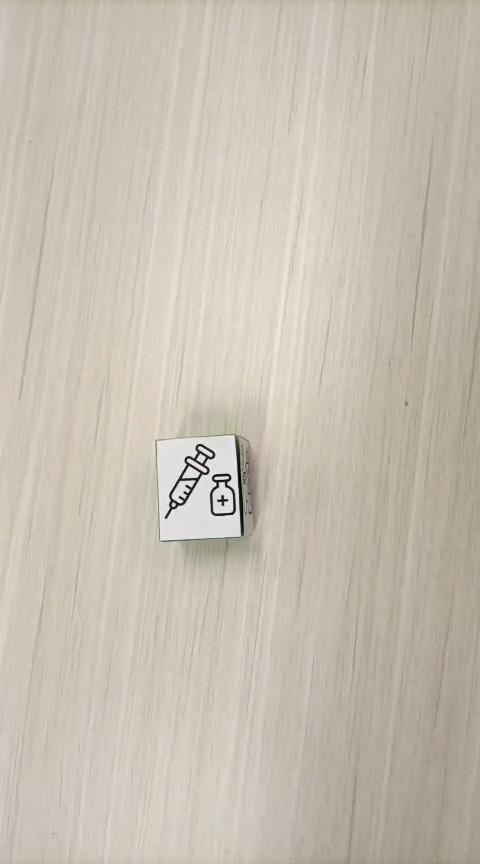antiseptic cream: (154, 432, 255, 542)
